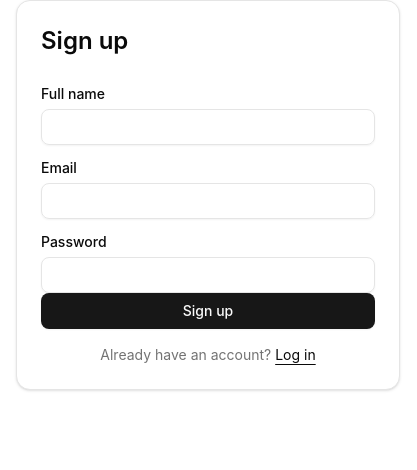
it: SignupPage › shows the server error message when signup fails
The width and height of the screenshot is (417, 470).
Type "Test Buyer" into the field labelled "Full name". click: (208, 127)
box: x1=41 y1=109 x2=375 y2=145
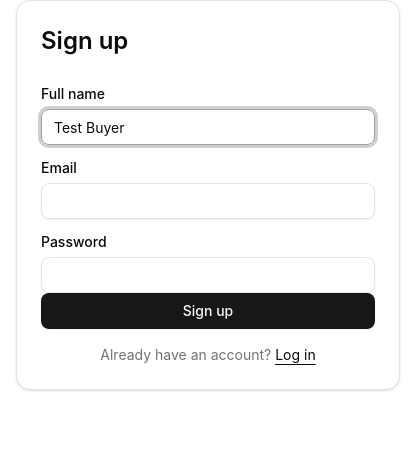
Type "buyer@example.com" into the field labelled "Email". click: (208, 201)
box: x1=41 y1=183 x2=375 y2=219
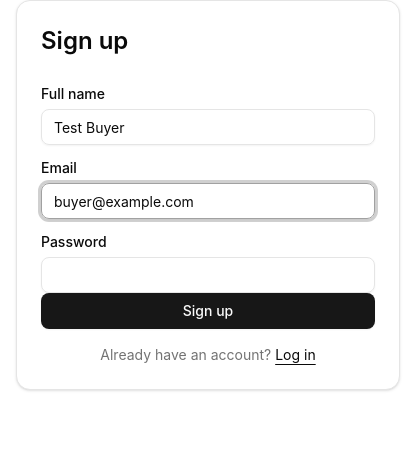
Type "correct horse battery staple" into the password field labelled "Password". click: (208, 275)
box: x1=41 y1=257 x2=375 y2=293
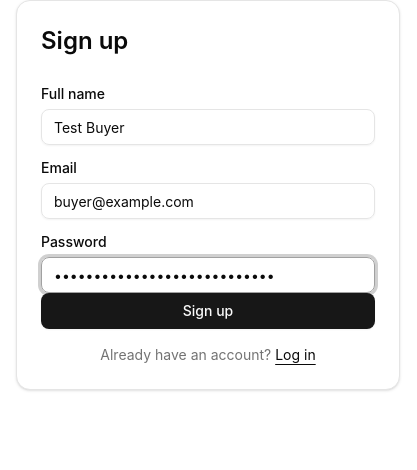
Click the button "Sign up". click: (208, 311)
box: x1=41 y1=293 x2=375 y2=329
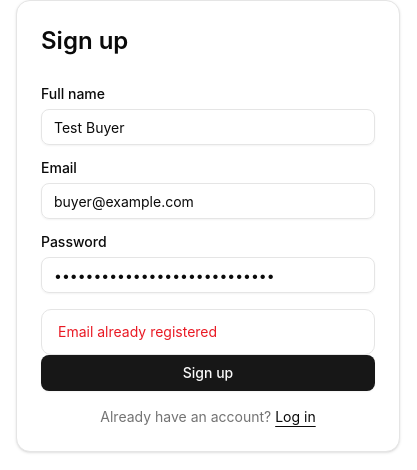
Expected: the message reads "Email already registered", x1=58 y1=323 x2=217 y2=340
